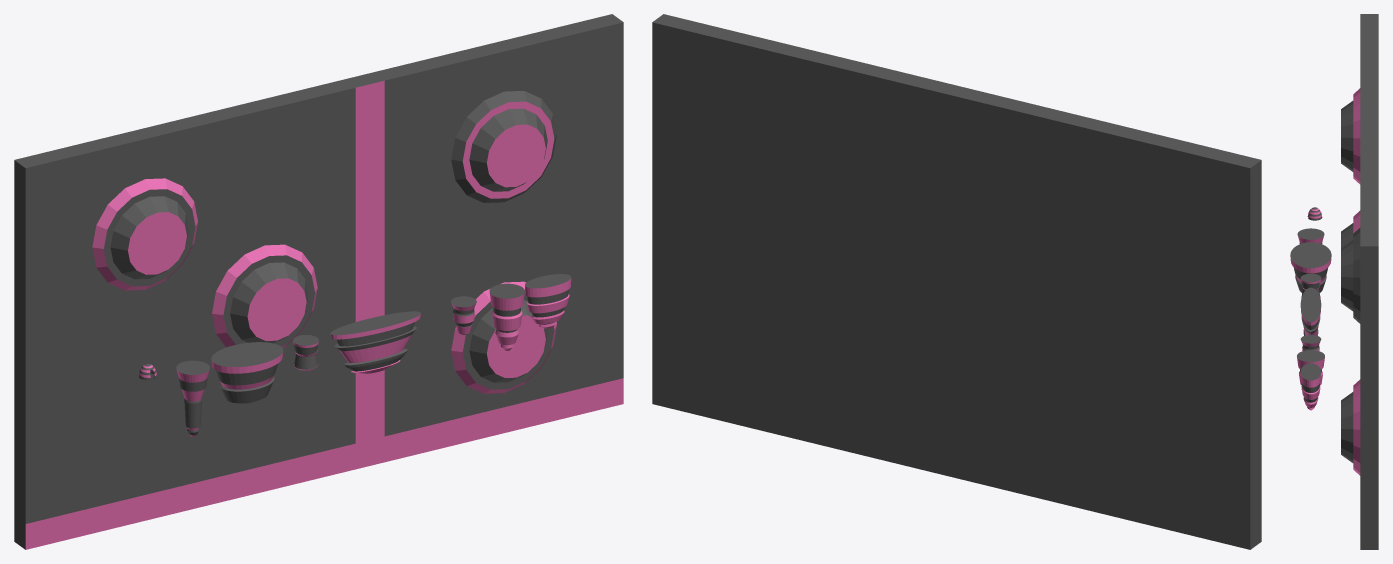
The model's file is circle_environment.fbx.
The picture shows the model from 3 angles, left to right: view 1: azimuth 30°, elevation 25°; view 2: azimuth 150°, elevation 25°; view 3: azimuth 270°, elevation 25°; orthographic projection. The views are drawn at different scales.
Visible parts, largest first — view 1: circle_background_01, circle_platform_04, circle_platform_02, circle_platform_07, circle_platform_06, circle_platform_01, circle_platform_03, circle_platform_05; view 2: circle_background_01; view 3: circle_background_01, circle_platform_02, circle_platform_04, circle_platform_07, circle_platform_06, circle_platform_01, circle_platform_03, circle_platform_05, circle_gate.
Part boxes in pixels (x1,y1,x2,y2): circle_background_01: [14, 14, 623, 549]; circle_platform_04: [330, 311, 420, 373]; circle_platform_02: [211, 342, 283, 403]; circle_platform_07: [525, 274, 571, 328]; circle_platform_06: [489, 283, 524, 350]; circle_platform_01: [176, 360, 209, 436]; circle_platform_03: [293, 335, 318, 370]; circle_platform_05: [451, 296, 476, 334]; circle_background_01: [652, 14, 1261, 549]; circle_background_01: [1341, 14, 1378, 549]; circle_platform_02: [1290, 242, 1331, 292]; circle_platform_04: [1300, 287, 1321, 335]; circle_platform_07: [1300, 363, 1321, 410]; circle_platform_06: [1297, 350, 1324, 389]; circle_platform_01: [1297, 228, 1324, 243]; circle_platform_03: [1300, 273, 1321, 297]; circle_platform_05: [1300, 335, 1321, 350]; circle_gate: [1307, 207, 1322, 220].
Bounding box in the file's own units: 5329 × 3249 × 856.
